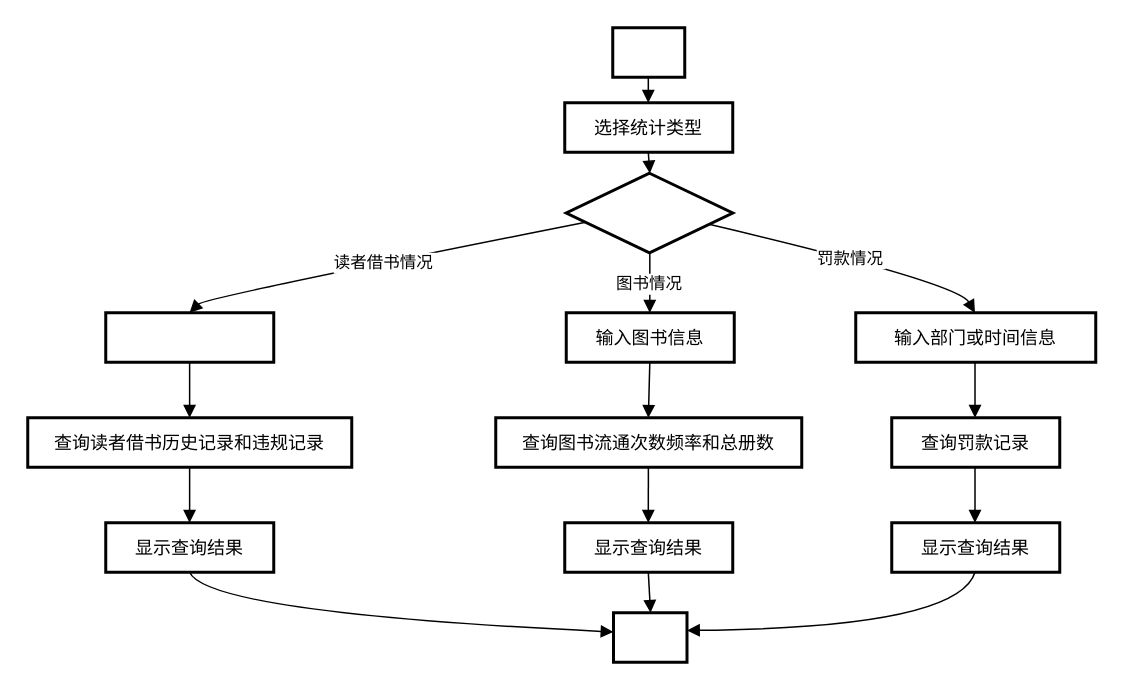
The diagram is 1122 pixels wide and 689 high, and some of its shapes have lost their labels. The centre of each missing label's shape, as x and y in pixels:
"开始" belongs at point (648, 52).
"结束" belongs at point (649, 636).
"统计类型" belongs at point (649, 212).
"输入读者信息" belongs at point (189, 336).
